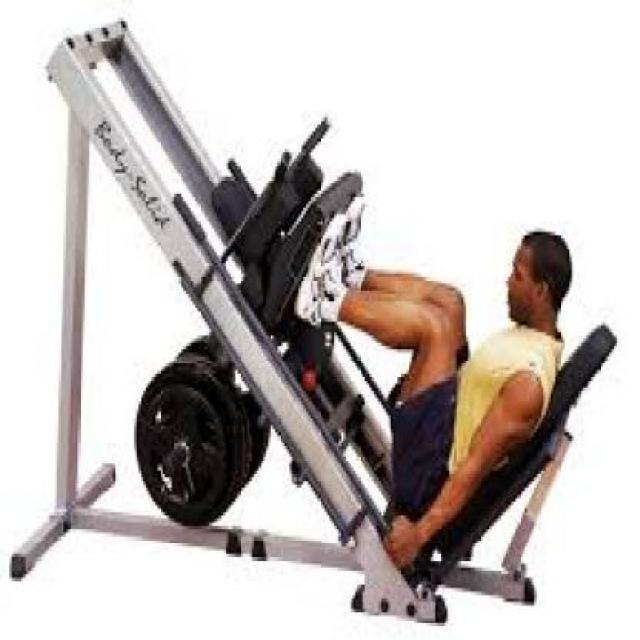leg press: (9, 12, 625, 628)
